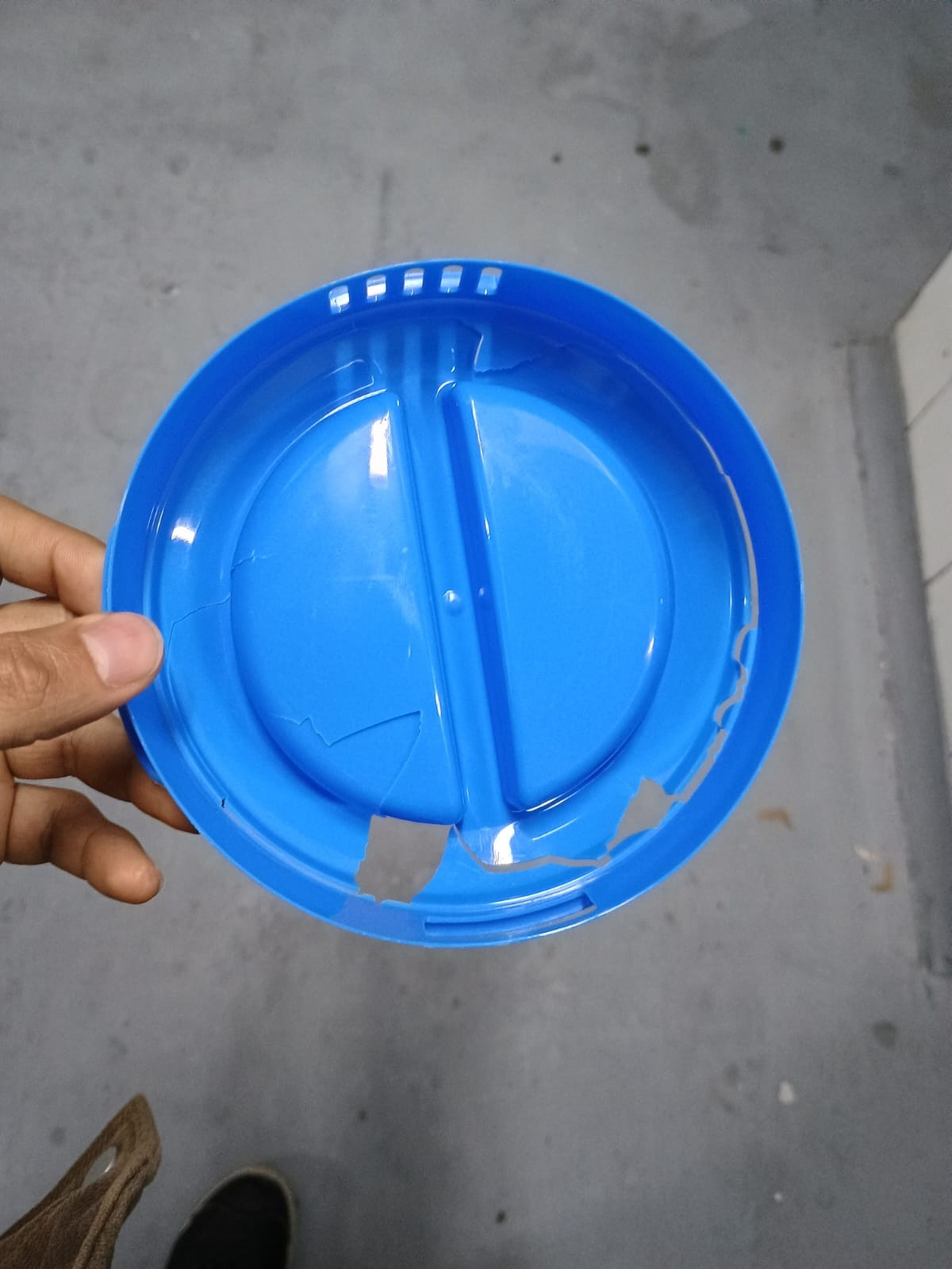Plastico: (96, 257, 806, 945)
